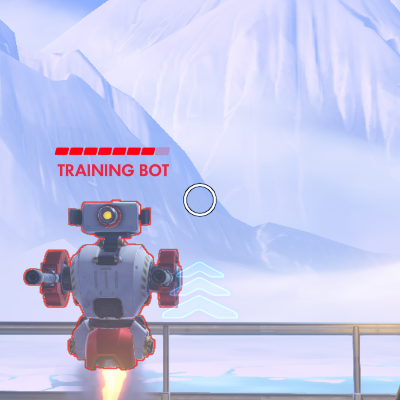hpbar: (54, 147, 170, 156)
